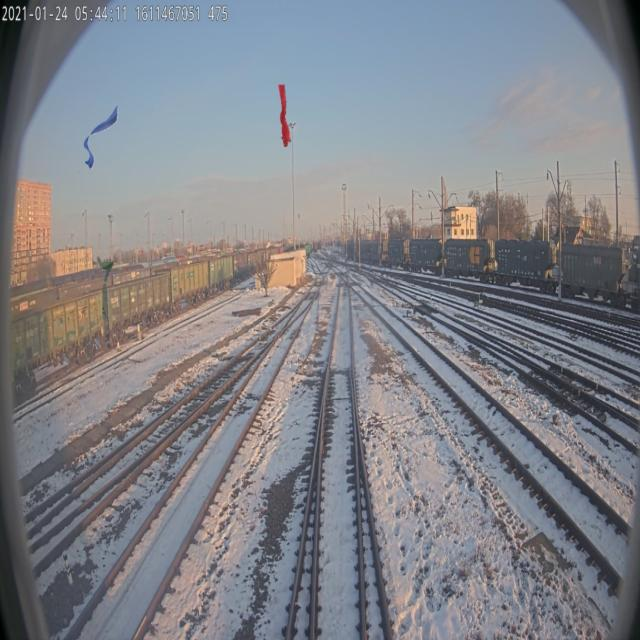floating object: (83, 105, 118, 169), (96, 256, 114, 320), (278, 83, 291, 147)
